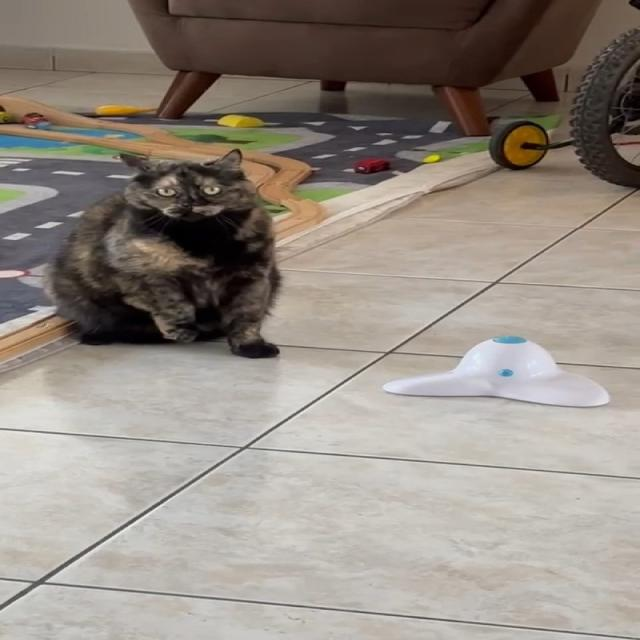authorized: (41, 147, 283, 359)
